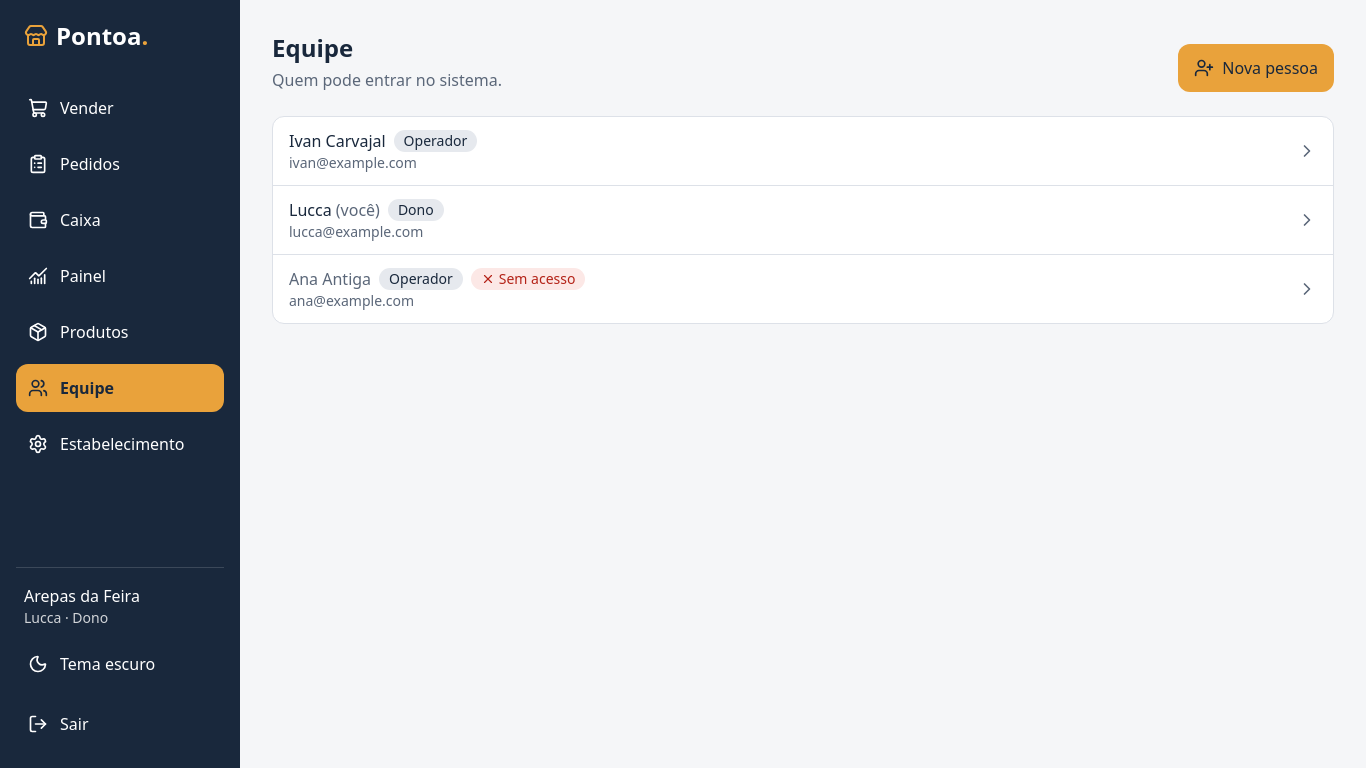
Scenario: TeamPage › removes access and resets the password with only the changed fields
Step 1. Click the button with aria-label "Editar Ivan Carvajal" → (337, 141), box [273,117,1333,185]
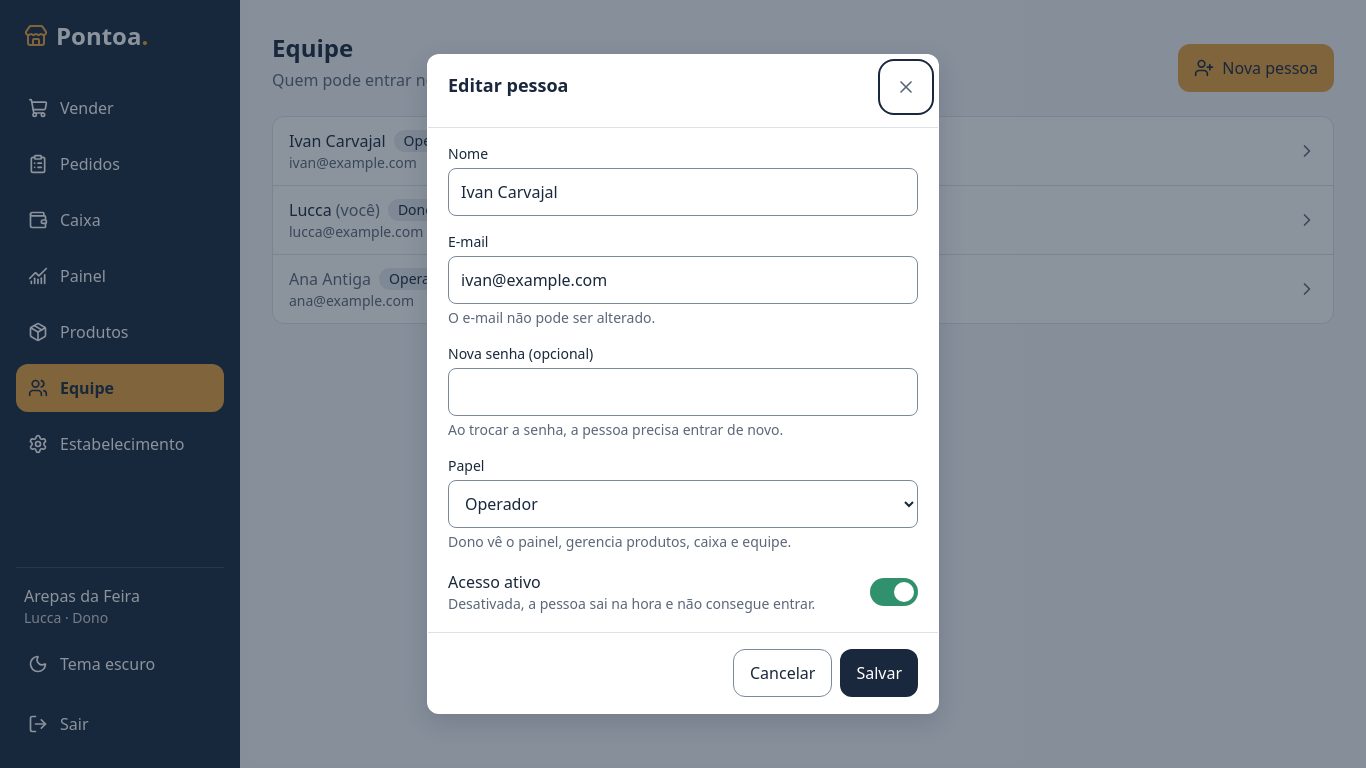
Step 2. Click the switch labelled "Acesso ativo" → (894, 592), box [870,578,918,606]
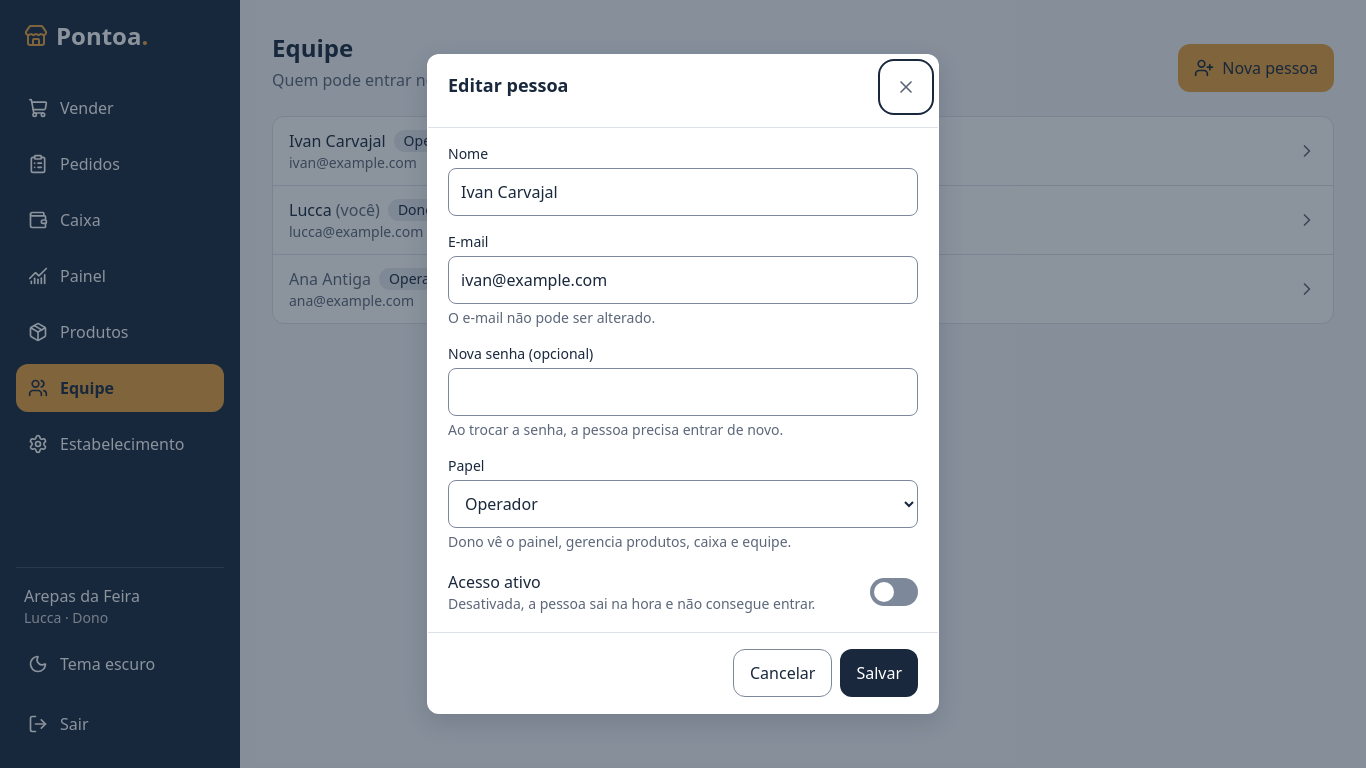
Step 3. Type "outra-senha-456" into the password field labelled "Nova senha (opcional)" → (683, 392), box [448,368,918,416]
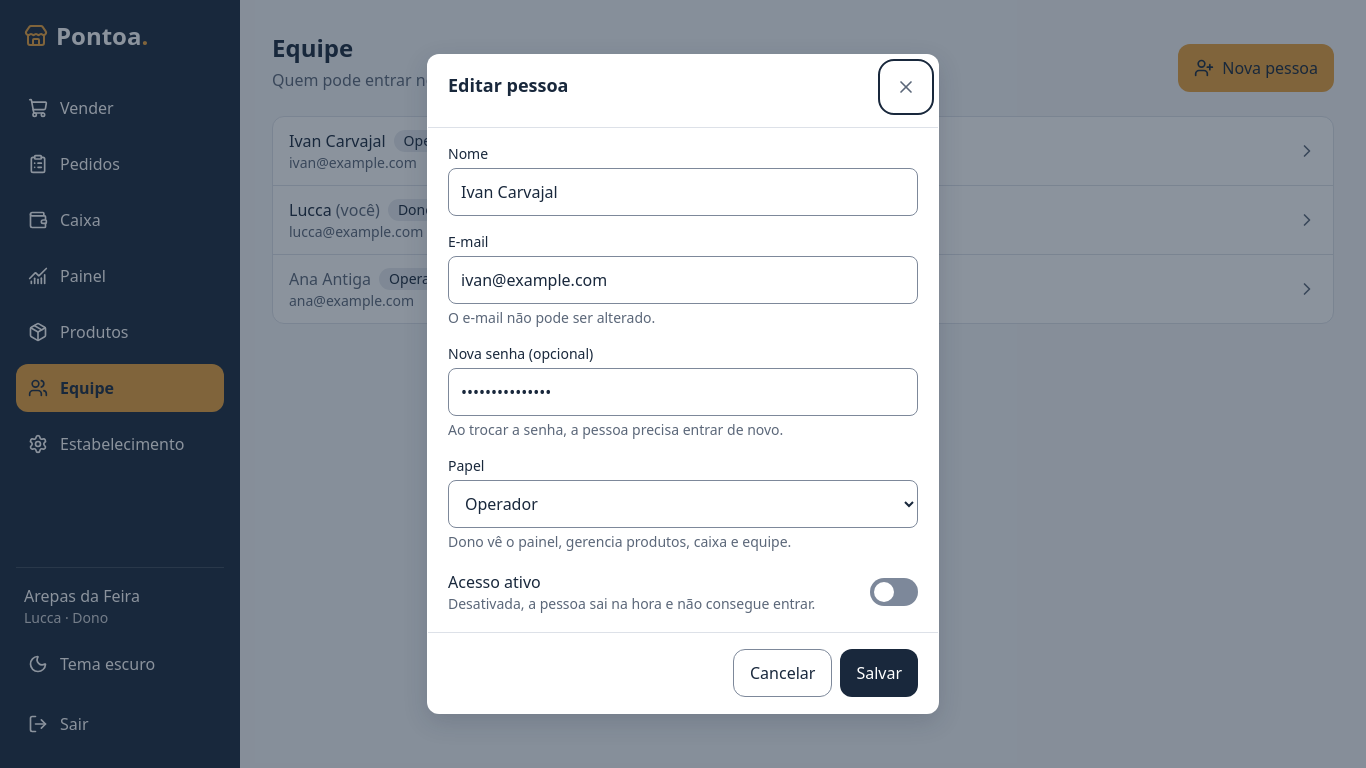
Step 4. Click the button "Salvar" → (879, 673), box [840,649,918,697]
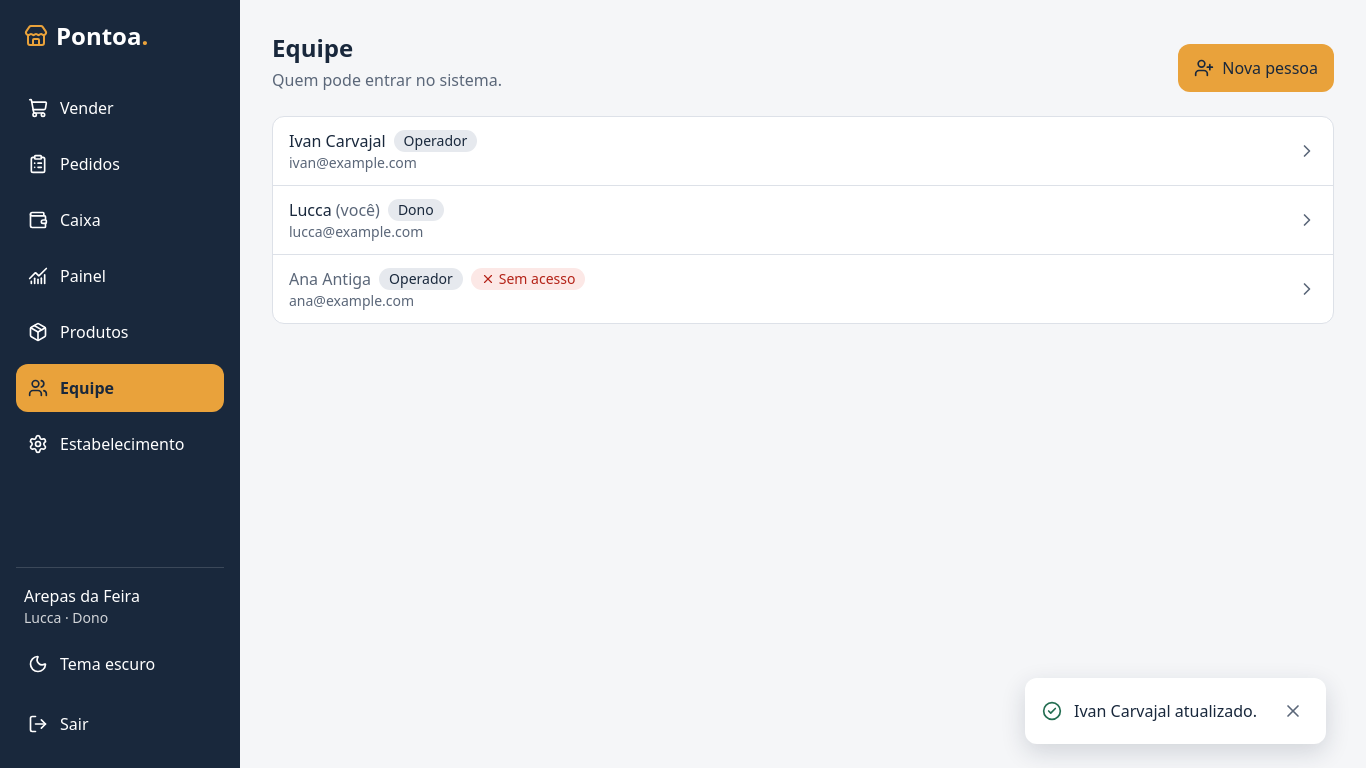
Expected: the text "Ivan Carvajal atualizado." is shown, [1074,700,1257,722]
